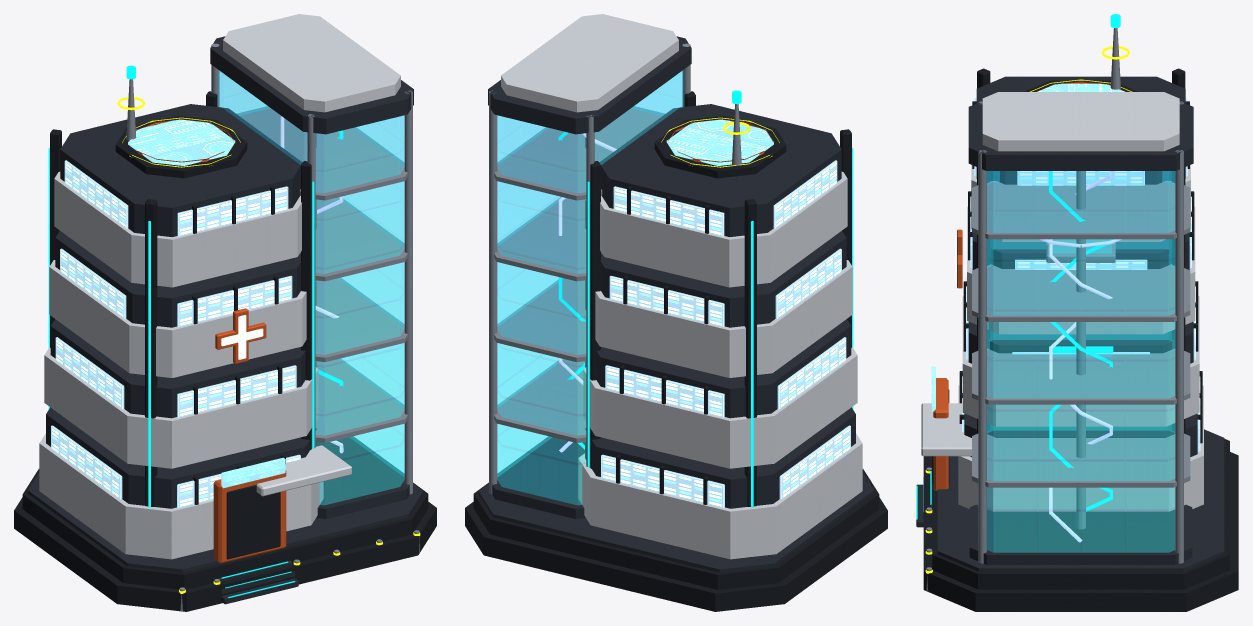
File: bldg_04_winner_01.glb
The picture shows the model from 3 angles, left to right: view 1: azimuth 30°, elevation 25°; view 2: azimuth 150°, elevation 25°; view 3: azimuth 270°, elevation 25°; orthographic projection. The views are drawn at different scales.
Visible parts, largest first — view 1: Bldg04_C02_aero_white, Bldg04_C02_carbon_slate, Bldg04_C02_glass_cyan, Bldg04_C02_gunmetal, Bldg04_C02_steel_machined, Bldg04_C02_window_lit, Bldg04_C02_marquee, Bldg04_C02_accent_orange, Bldg04_C02_led_cyan, Bldg04_C02_led_ice, Bldg04_C02_led_amber; view 2: Bldg04_C02_aero_white, Bldg04_C02_carbon_slate, Bldg04_C02_glass_cyan, Bldg04_C02_gunmetal, Bldg04_C02_steel_machined, Bldg04_C02_window_lit, Bldg04_C02_marquee, Bldg04_C02_led_cyan; view 3: Bldg04_C02_glass_cyan, Bldg04_C02_steel_machined, Bldg04_C02_carbon_slate, Bldg04_C02_aero_white, Bldg04_C02_gunmetal, Bldg04_C02_window_lit, Bldg04_C02_led_cyan, Bldg04_C02_led_uv, Bldg04_C02_accent_orange, Bldg04_C02_marquee.
Part boxes in pixels (x1,y1,x2,y2): Bldg04_C02_aero_white: (39, 14, 400, 559); Bldg04_C02_carbon_slate: (27, 36, 423, 604); Bldg04_C02_glass_cyan: (218, 70, 404, 504); Bldg04_C02_gunmetal: (14, 91, 436, 611); Bldg04_C02_steel_machined: (126, 43, 419, 611); Bldg04_C02_window_lit: (51, 160, 300, 507); Bldg04_C02_marquee: (128, 119, 285, 488); Bldg04_C02_accent_orange: (129, 119, 286, 563); Bldg04_C02_led_cyan: (48, 65, 343, 597); Bldg04_C02_led_ice: (221, 315, 263, 359); Bldg04_C02_led_amber: (117, 97, 420, 593); Bldg04_C02_aero_white: (501, 14, 862, 559); Bldg04_C02_carbon_slate: (478, 36, 874, 572); Bldg04_C02_glass_cyan: (497, 70, 683, 504); Bldg04_C02_gunmetal: (465, 91, 887, 611); Bldg04_C02_steel_machined: (489, 43, 870, 494); Bldg04_C02_window_lit: (601, 160, 850, 507); Bldg04_C02_marquee: (666, 119, 773, 165); Bldg04_C02_led_cyan: (558, 90, 853, 507); Bldg04_C02_glass_cyan: (987, 171, 1175, 552); Bldg04_C02_steel_machined: (926, 28, 1190, 591); Bldg04_C02_carbon_slate: (916, 76, 1224, 571); Bldg04_C02_aero_white: (921, 92, 1203, 511); Bldg04_C02_gunmetal: (923, 68, 1238, 611); Bldg04_C02_window_lit: (962, 98, 1200, 451); Bldg04_C02_led_cyan: (916, 14, 1120, 519); Bldg04_C02_led_uv: (1040, 171, 1121, 542); Bldg04_C02_accent_orange: (933, 81, 1126, 490); Bldg04_C02_marquee: (931, 83, 1124, 412).
Bounding box in the file's own units: 12 × 16.72 × 10.23.
Materials: 12 (12 with a texture image).
